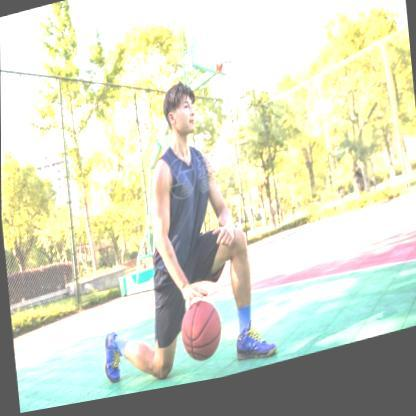basketball: (178, 304, 223, 372)
